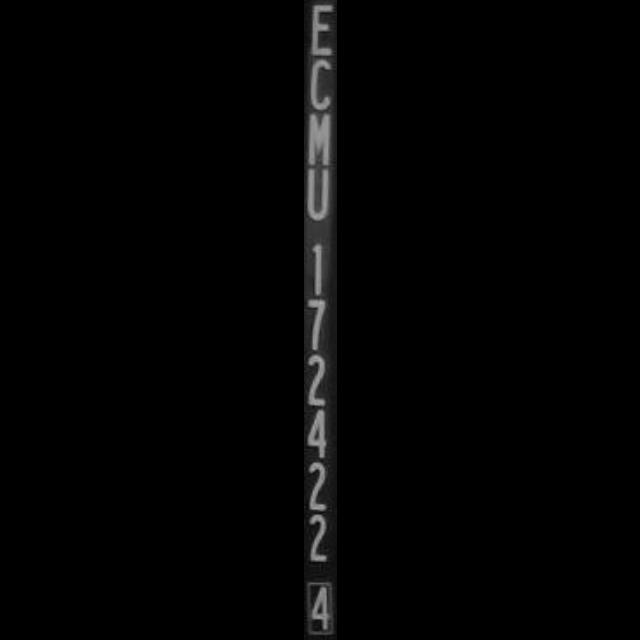1: (303, 236, 331, 302)
2: (304, 346, 334, 412), (304, 511, 336, 565), (304, 460, 336, 510)
4: (304, 584, 336, 640), (304, 406, 334, 460)
7: (304, 297, 336, 351)
c: (304, 56, 336, 110)
e: (304, 0, 334, 60)
m: (304, 111, 336, 169)
u: (303, 162, 335, 225)
